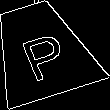P_N: (11, 21, 70, 81)
